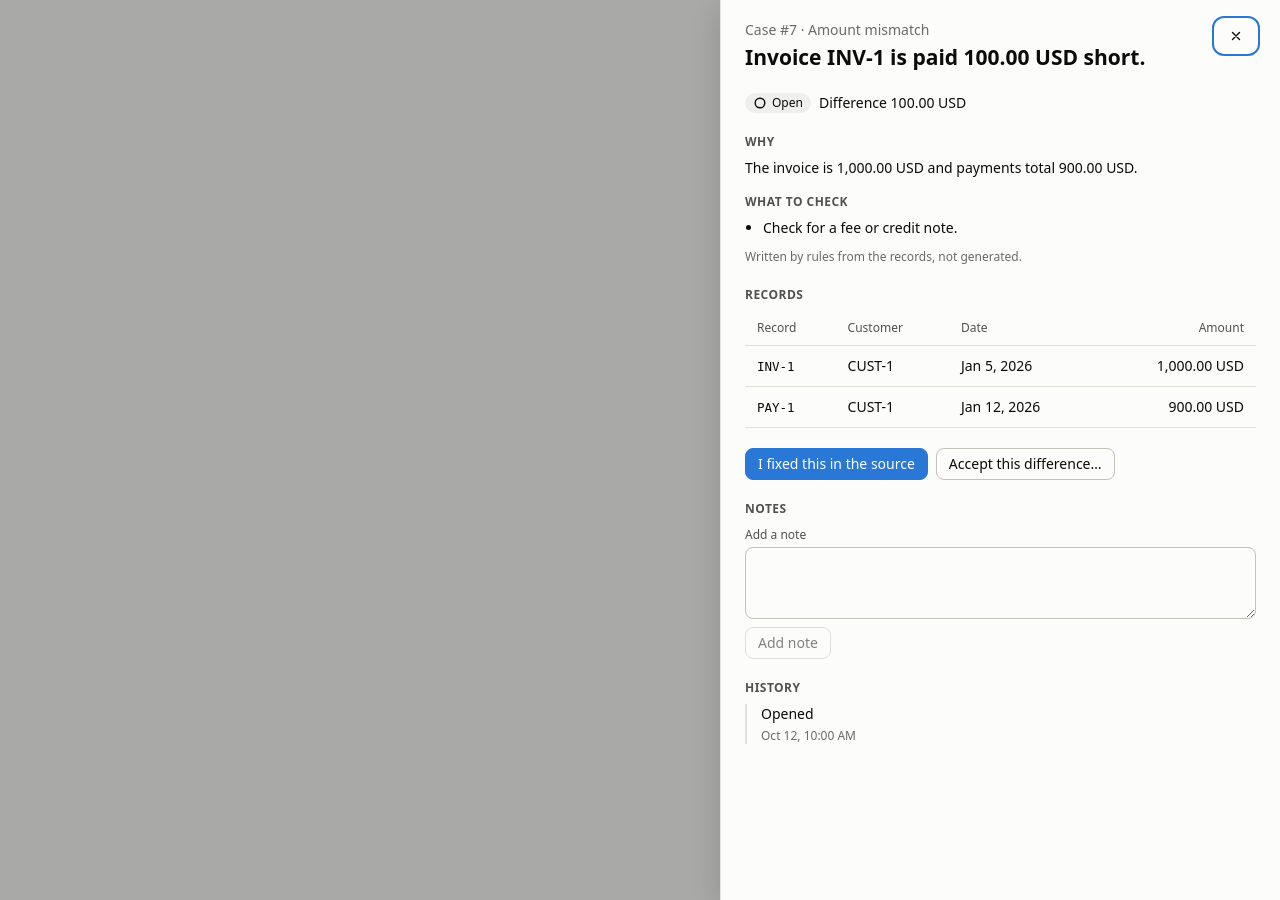
Test case: CaseDrawer › accepts a difference with a reason and a note
The image size is (1280, 900).
Click the button "Accept this difference…" at (1025, 464), box 936,448 -> 1115,480
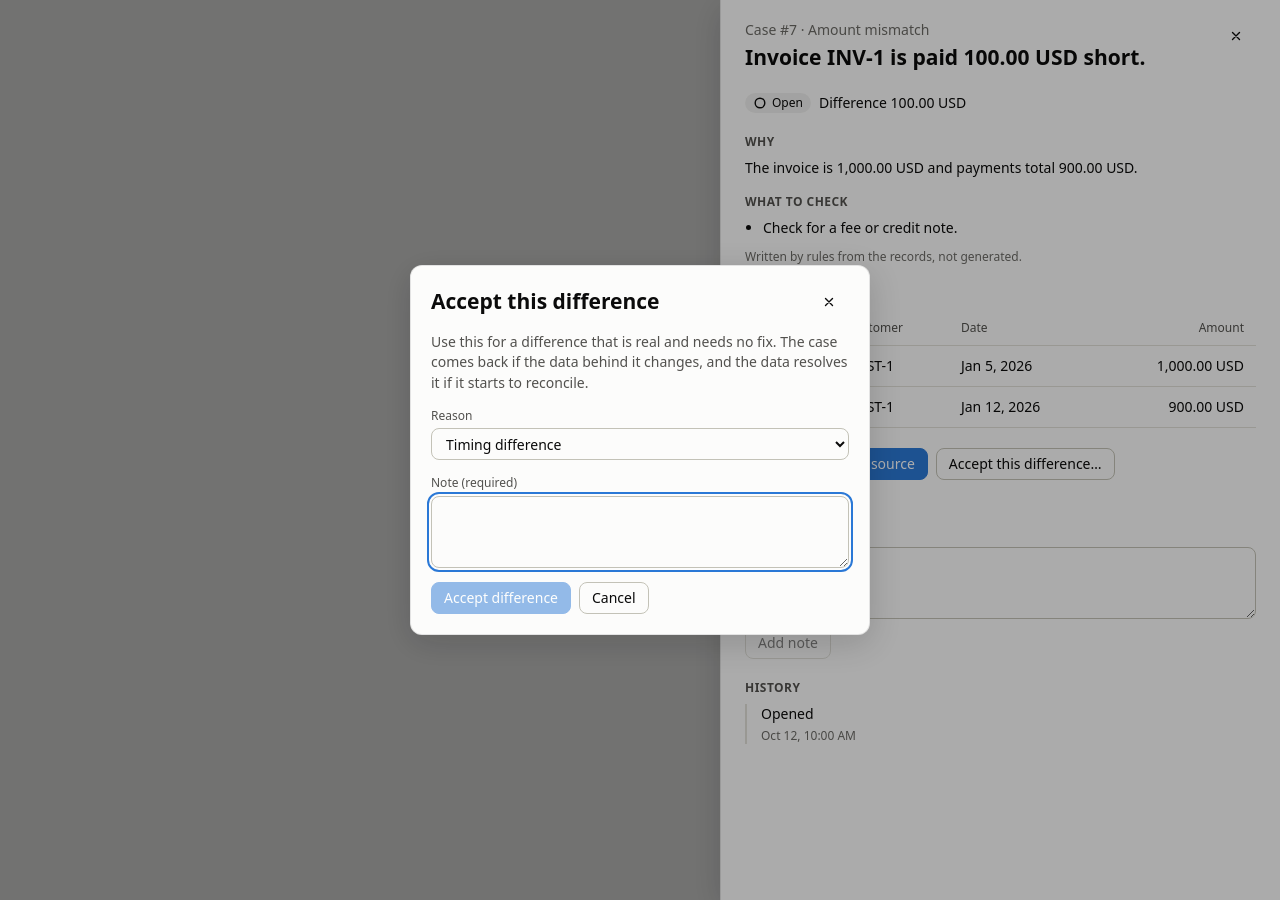
Select "Write-off" in the dropdown labelled "Reason" at (640, 444), box 431,428 -> 849,460
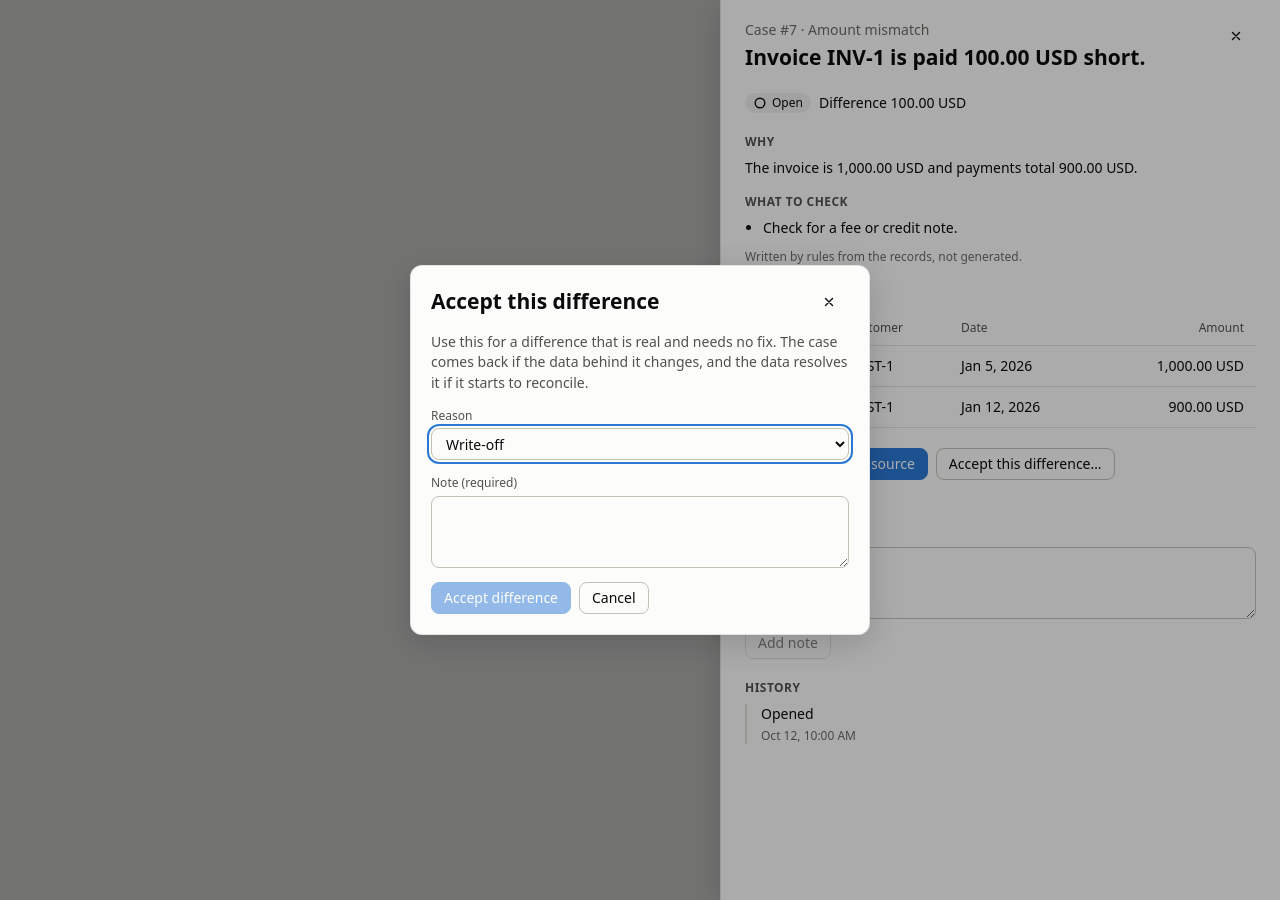
Type "Customer refunded" into the text box labelled "Note (required)" at (640, 532), box 431,496 -> 849,568
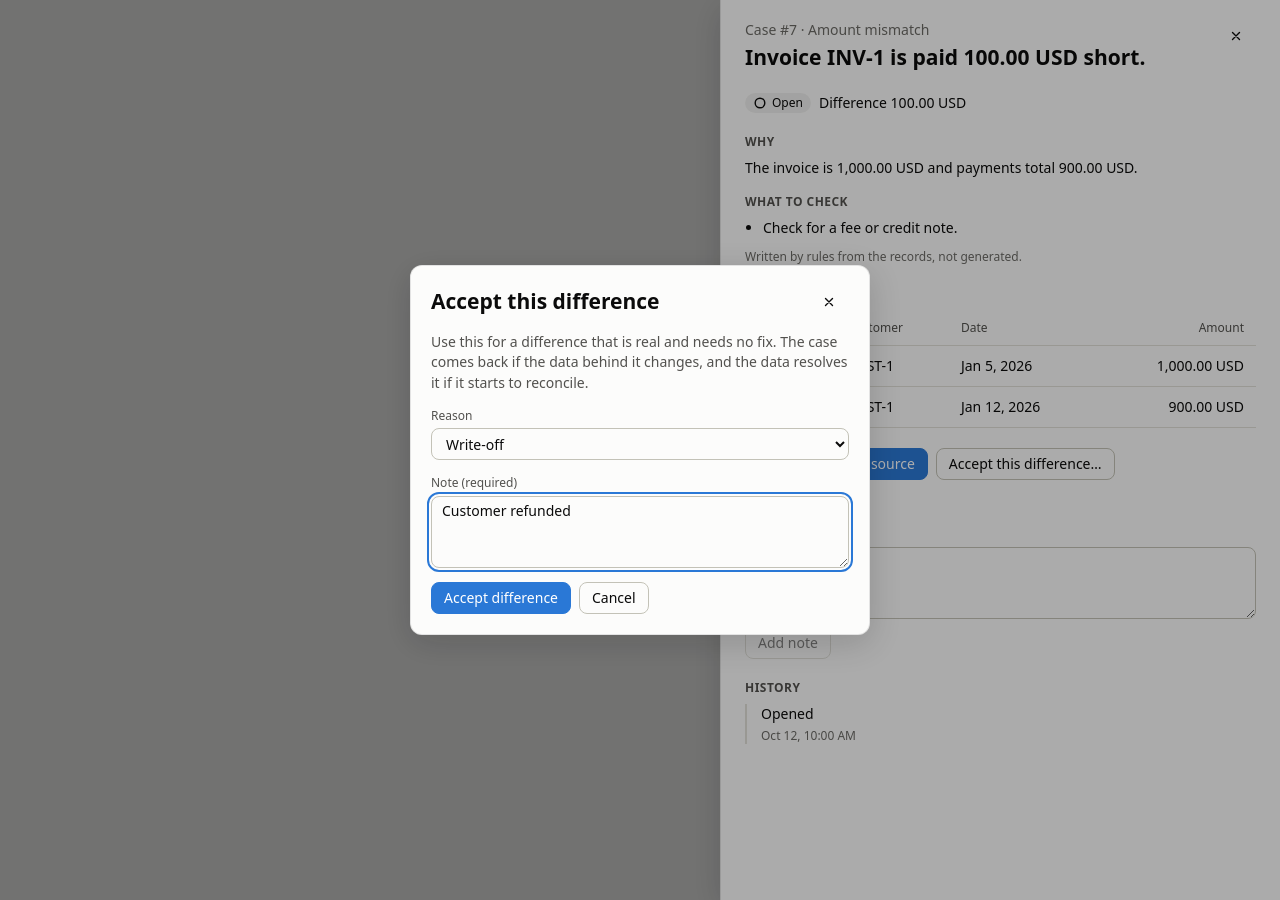
Click the button "Accept difference" at (501, 598), box 431,582 -> 571,614
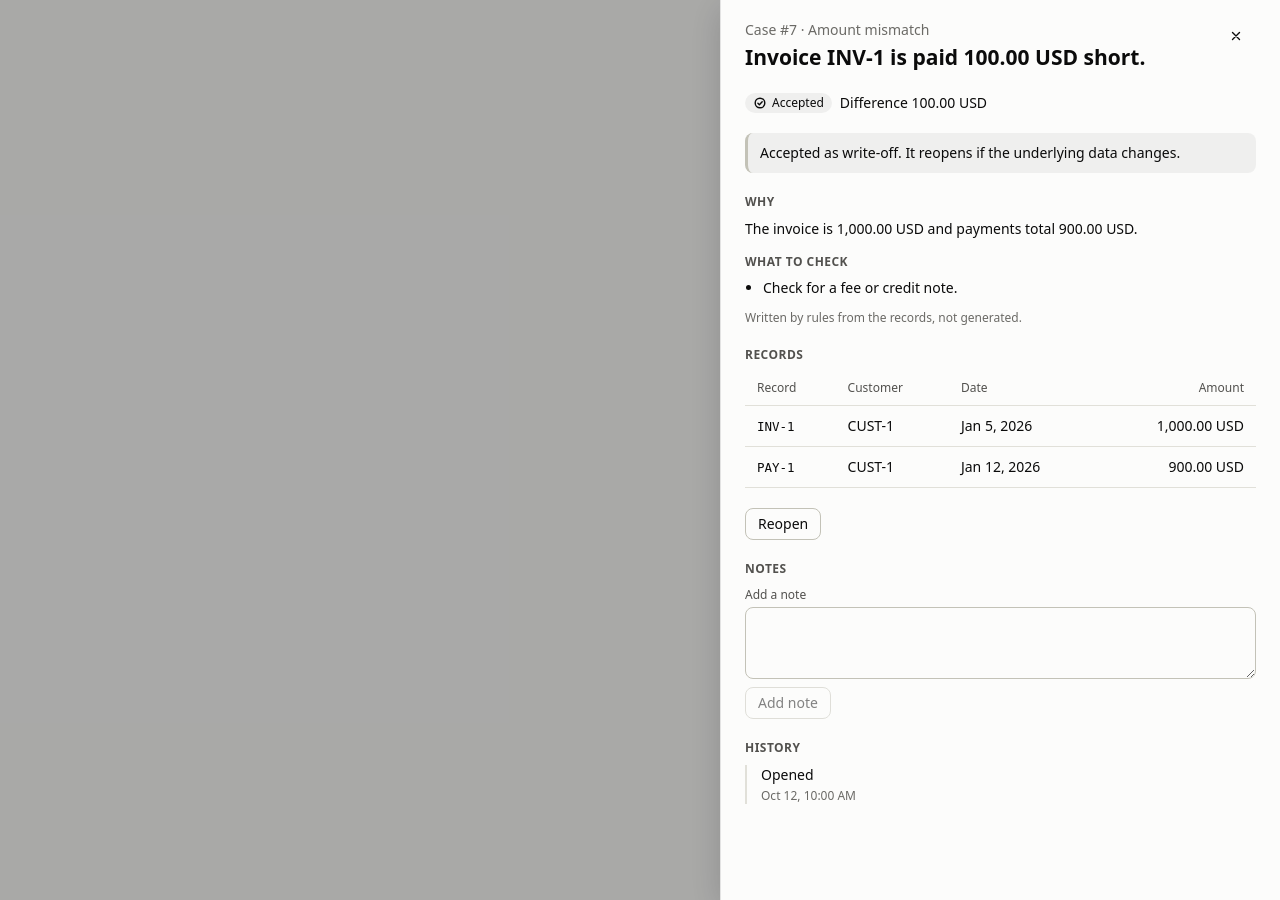
Check: the text "Accepted as write-off" is shown, box 745,133 -> 1256,173
